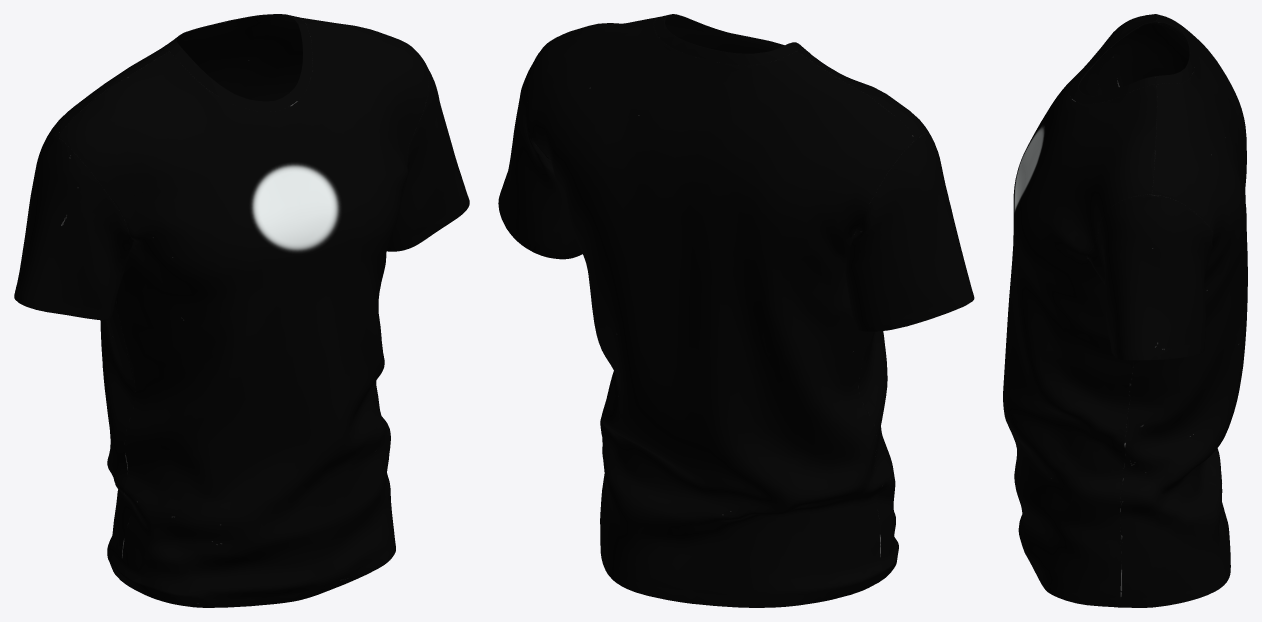
Rendered from tshirt.glb.
The picture shows the model from 3 angles, left to right: view 1: azimuth 30°, elevation 25°; view 2: azimuth 150°, elevation 25°; view 3: azimuth 270°, elevation 25°; orthographic projection. The views are drawn at different scales.
Parts seen in each view (by area): view 1: tshirt; view 2: tshirt; view 3: tshirt.
Boxes of the visible parts, bbox=[...] form: tshirt: bbox=[14, 14, 469, 607]; tshirt: bbox=[498, 14, 974, 607]; tshirt: bbox=[1003, 14, 1247, 607].
Bounding box in the file's own units: 0.5502 × 0.613 × 0.2689.
1 material, 1 textured.
